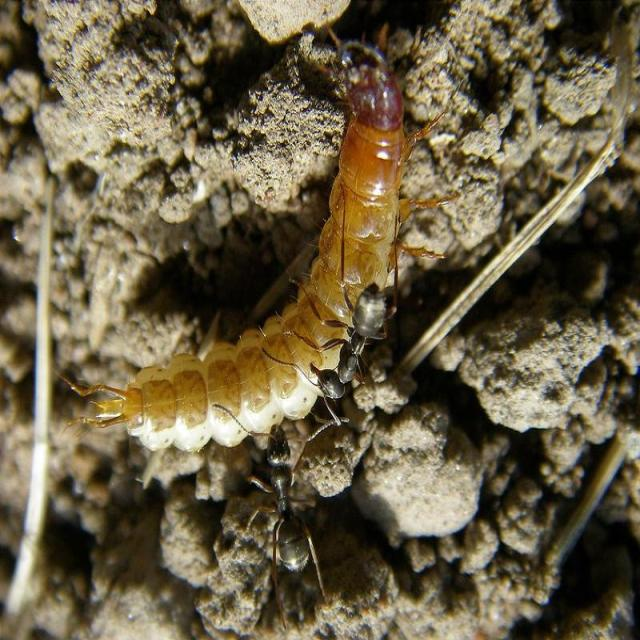grub: (100, 41, 407, 469)
